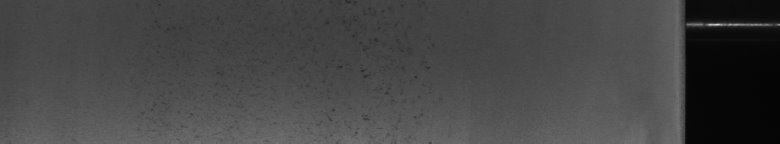ib: (307, 10, 431, 136)
